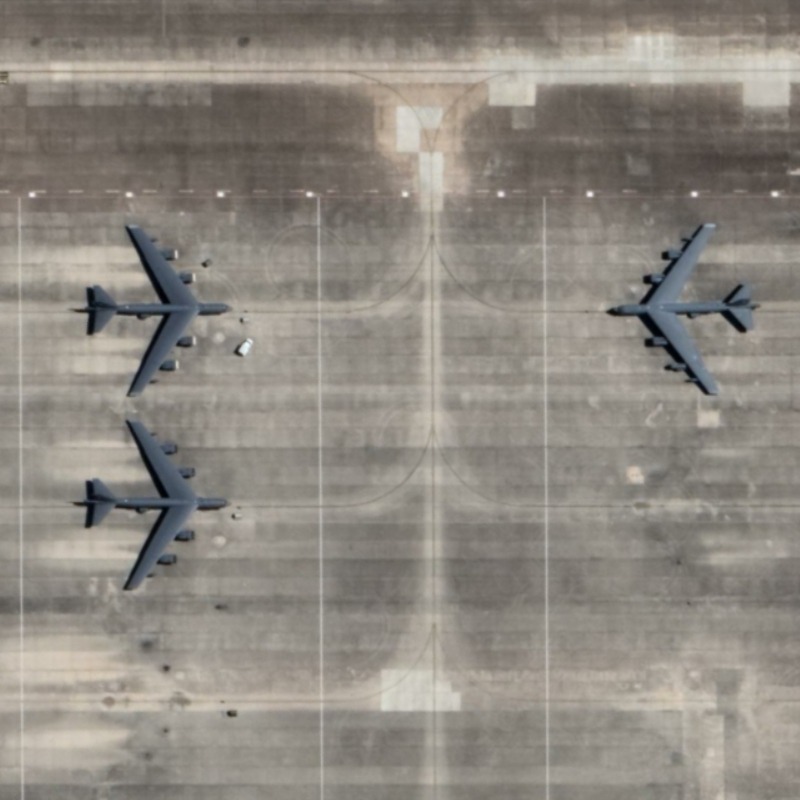A8: (599, 213, 763, 406), (75, 411, 238, 599), (79, 215, 238, 405)
